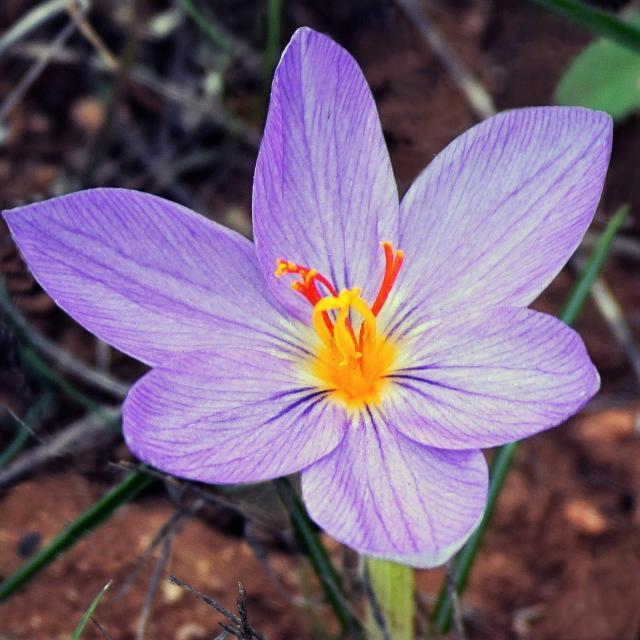Flower: (1, 26, 611, 568)
stigma: (354, 239, 412, 351), (276, 256, 355, 332), (287, 278, 335, 339)
